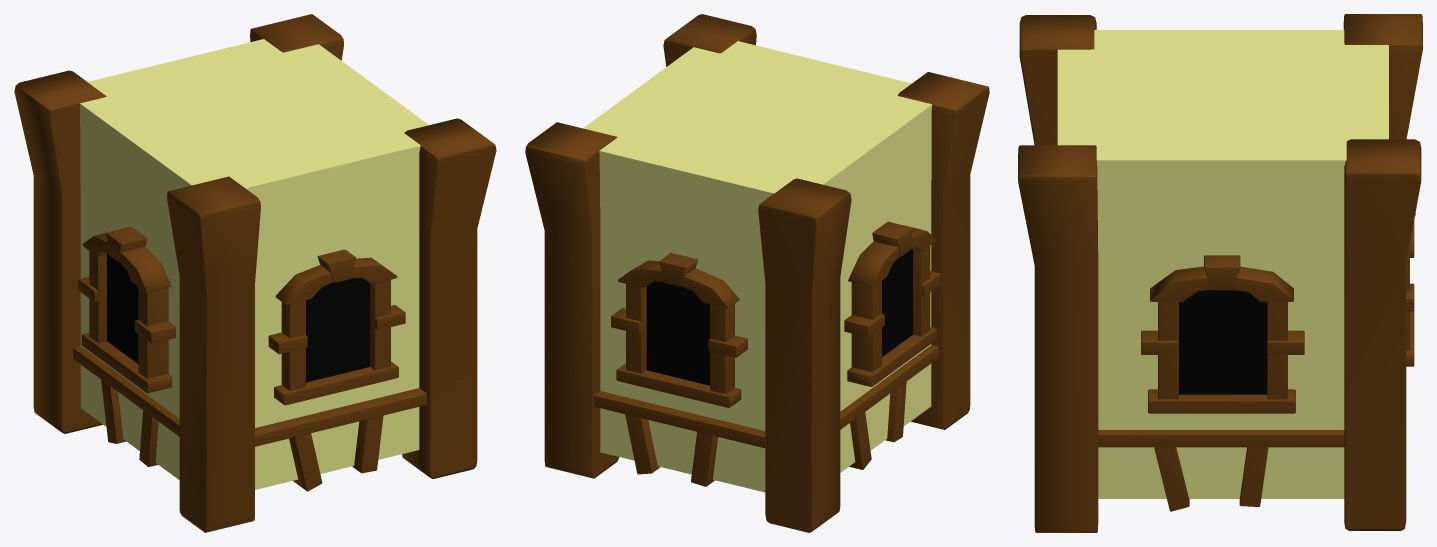
File: MainTowerMiddle.fbx
The picture shows the model from 3 angles, left to right: view 1: azimuth 30°, elevation 25°; view 2: azimuth 150°, elevation 25°; view 3: azimuth 270°, elevation 25°; orthographic projection. The views are drawn at different scales.
Parts seen in each view (by area): view 1: MainTowerMiddle; view 2: MainTowerMiddle; view 3: MainTowerMiddle.
Part boxes in pixels (x1,y1,x2,y2): MainTowerMiddle: (14,14,496,532); MainTowerMiddle: (525,14,989,532); MainTowerMiddle: (1018,14,1422,532).
Size of the model in its own units: 564 by 587 by 588.
